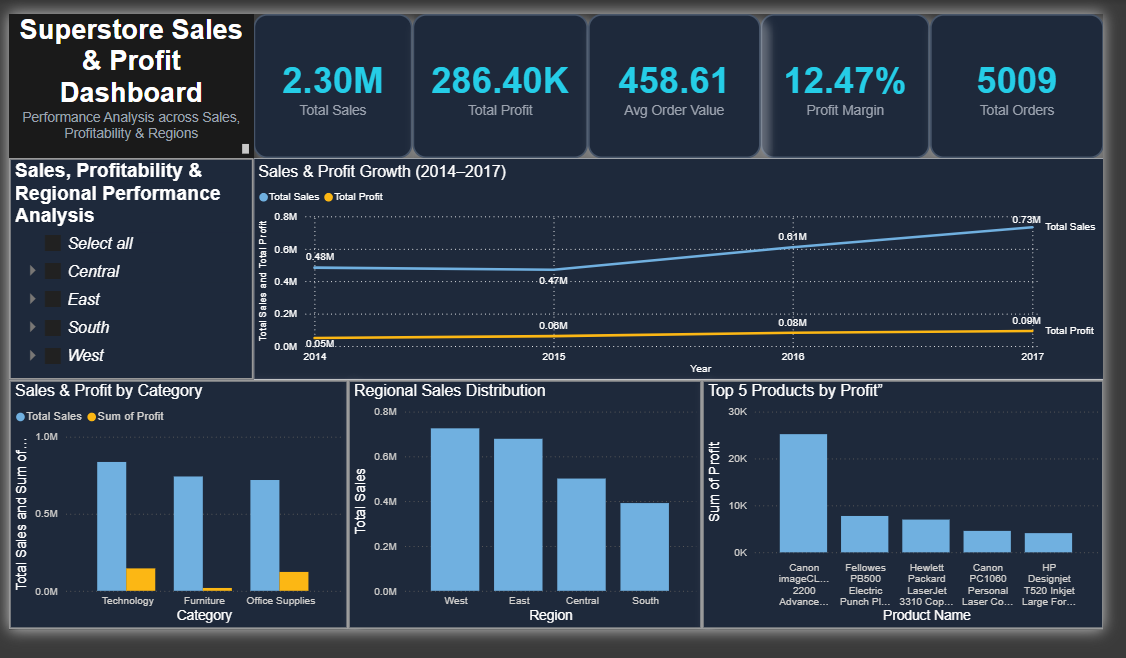

Layout of this report page (visuals, bound fields, positions):
{"tool":"powerbi","page":{"name":"Page 1","canvas":[1280,720],"ordinal":0},"visuals":[{"type":"card","fields":{"Values":["Superstore.Total Sales"]},"box":[286,0,186,168.4],"z":0},{"type":"card","fields":{"Values":["Superstore.Total Profit"]},"box":[471.9,0,205.3,168.4],"z":1},{"type":"card","fields":{"Values":["Superstore.Profit Margin"]},"box":[878.9,0,198.2,168.4],"z":2},{"type":"card","fields":{"Values":["Superstore.Total Orders"]},"box":[1077.2,0,203.5,168.4],"z":3},{"type":"card","fields":{"Values":["Superstore.Avg Order Value"]},"box":[677.2,0,201.8,168.4],"z":4},{"type":"lineChart","title":"Sales & Profit Growth (2014–2017)","fields":{"Category":["Superstore.Order Date.Variation.Date Hierarchy.Year","Superstore.Order Date.Variation.Date Hierarchy.Quarter","Superstore.Order Date.Variation.Date Hierarchy.Month","Superstore.Order Date.Variation.Date Hierarchy.Day"],"Y":["Superstore.Total Sales","Superstore.Total Profit"]},"box":[286,168.4,994.7,259.6],"z":5},{"type":"clusteredColumnChart","title":"Sales & Profit by Category","fields":{"Category":["Superstore.Category"],"Y":["Superstore.Total Sales","Sum(Superstore.Profit)"]},"box":[0,428.1,396.5,291.2],"z":6},{"type":"clusteredColumnChart","title":"Regional Sales Distribution","fields":{"Category":["Superstore.Region"],"Y":["Superstore.Total Sales"]},"box":[396.5,428.1,414,291.2],"z":7},{"type":"textbox","title":"Superstore Sales & Profit Dashboard","box":[0,0,286,168.4],"z":8},{"type":"clusteredColumnChart","title":"Top 5 Products by Profit”","fields":{"Category":["Superstore.Product Name"],"Y":["Sum(Superstore.Profit)"]},"box":[810.5,428.1,470.2,291.2],"z":9},{"type":"slicer","title":"Sales, Profitability & Regional Performance Analysis","fields":{"Values":["Superstore.Region","Superstore.Category","Superstore.Country","Superstore.Segment"]},"box":[0,168.4,286,259.6],"z":10}]}

Visuals, with their boxes in screenshot pixels (x1, y1, x2, y2):
card - Superstore.Total Sales: x1=248, y1=6, x2=409, y2=152
card - Superstore.Total Profit: x1=409, y1=6, x2=587, y2=152
card - Superstore.Profit Margin: x1=762, y1=6, x2=934, y2=152
card - Superstore.Total Orders: x1=935, y1=6, x2=1111, y2=152
card - Superstore.Avg Order Value: x1=587, y1=6, x2=763, y2=152
"Sales & Profit Growth (2014–2017)" lineChart: x1=248, y1=152, x2=1111, y2=377
"Sales & Profit by Category" clusteredColumnChart: x1=0, y1=377, x2=344, y2=630
"Regional Sales Distribution" clusteredColumnChart: x1=344, y1=377, x2=703, y2=630
"Superstore Sales & Profit Dashboard" textbox: x1=0, y1=6, x2=248, y2=152
"Top 5 Products by Profit”" clusteredColumnChart: x1=703, y1=377, x2=1111, y2=630
"Sales, Profitability & Regional Performance Analysis" slicer: x1=0, y1=152, x2=248, y2=377
